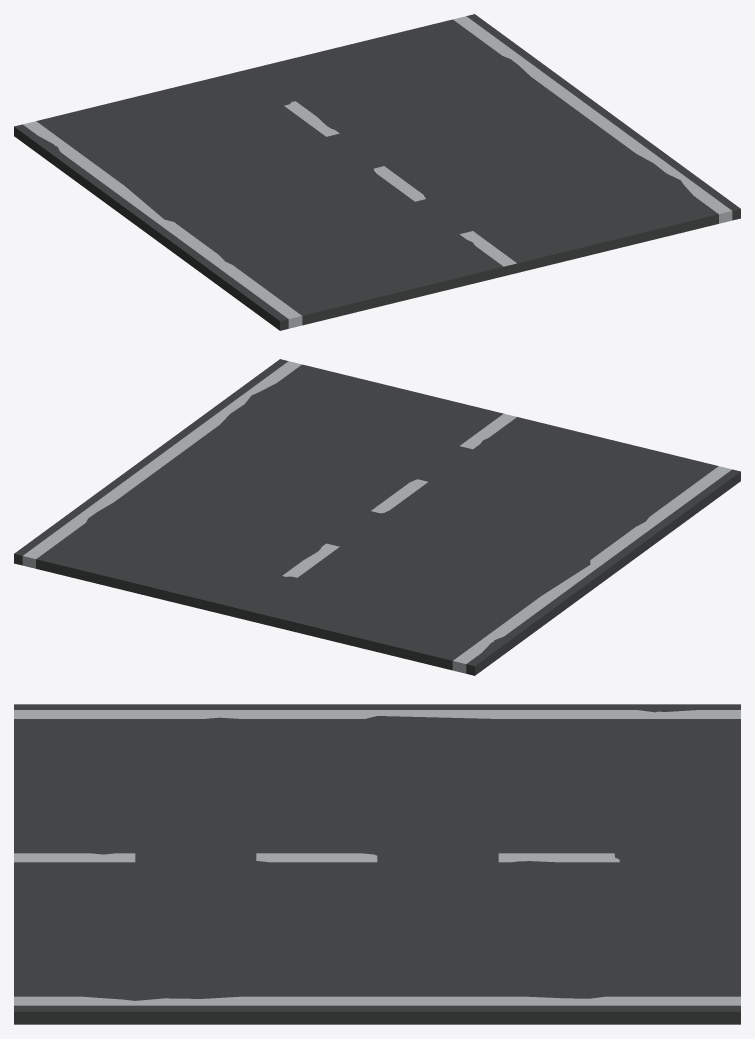
Rendered from 20C_BG_Road_10M.fbx.
3 renders of one model, top to bottom at view 1: azimuth 30°, elevation 25°; view 2: azimuth 150°, elevation 25°; view 3: azimuth 270°, elevation 25°, orthographic. The views are drawn at different scales.
Parts seen in each view (by area): view 1: 20C_BG_Road_10M; view 2: 20C_BG_Road_10M; view 3: 20C_BG_Road_10M.
Boxes of the visible parts, left/top/right/bottom form: 20C_BG_Road_10M: left=14, top=14, right=740, bottom=330; 20C_BG_Road_10M: left=14, top=359, right=740, bottom=675; 20C_BG_Road_10M: left=14, top=704, right=740, bottom=1024.
Size of the model in its own units: 100 by 2 by 100.
